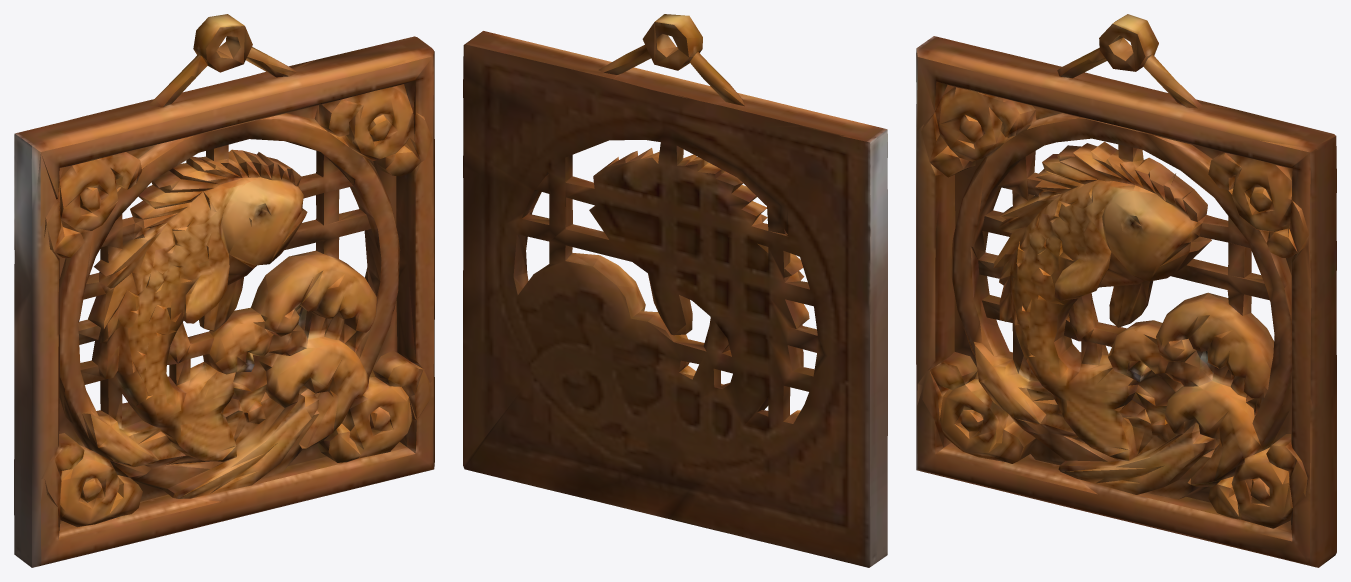
Rendered from wall23.glb.
3 renders of one model, left to right at view 1: azimuth 30°, elevation 25°; view 2: azimuth 150°, elevation 25°; view 3: azimuth 330°, elevation 25°, orthographic.
Bounding box in the file's own units: 0.2299 × 0.2674 × 0.027.
Materials: 1 (1 with a texture image).
